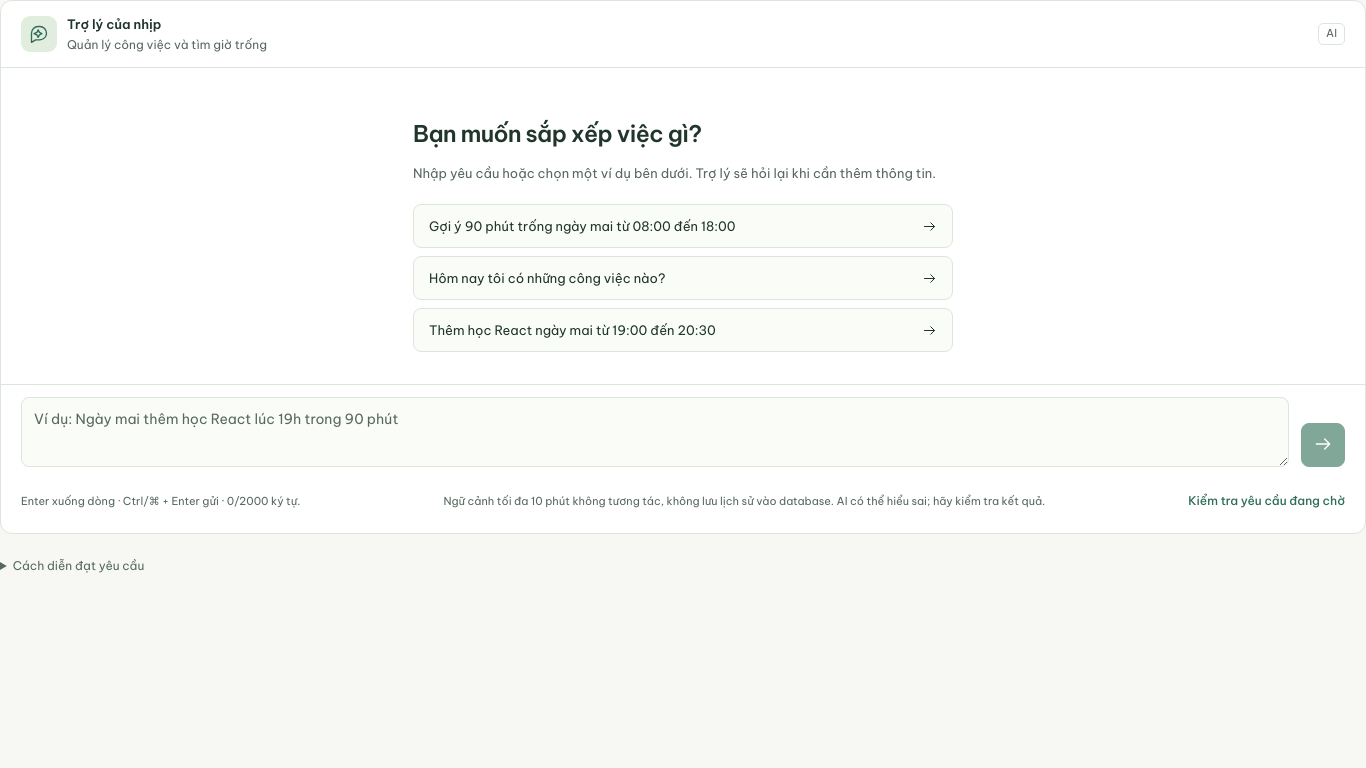
Test: availability renders backend slots without booking controls or task refresh
The width and height of the screenshot is (1366, 768).
Type "Gợi ý 90 phút trống ngày mai từ 08:00 đến 18:00" into the text box named "Nội dung yêu cầu". click: (655, 432)
box: [21,397,1289,467]
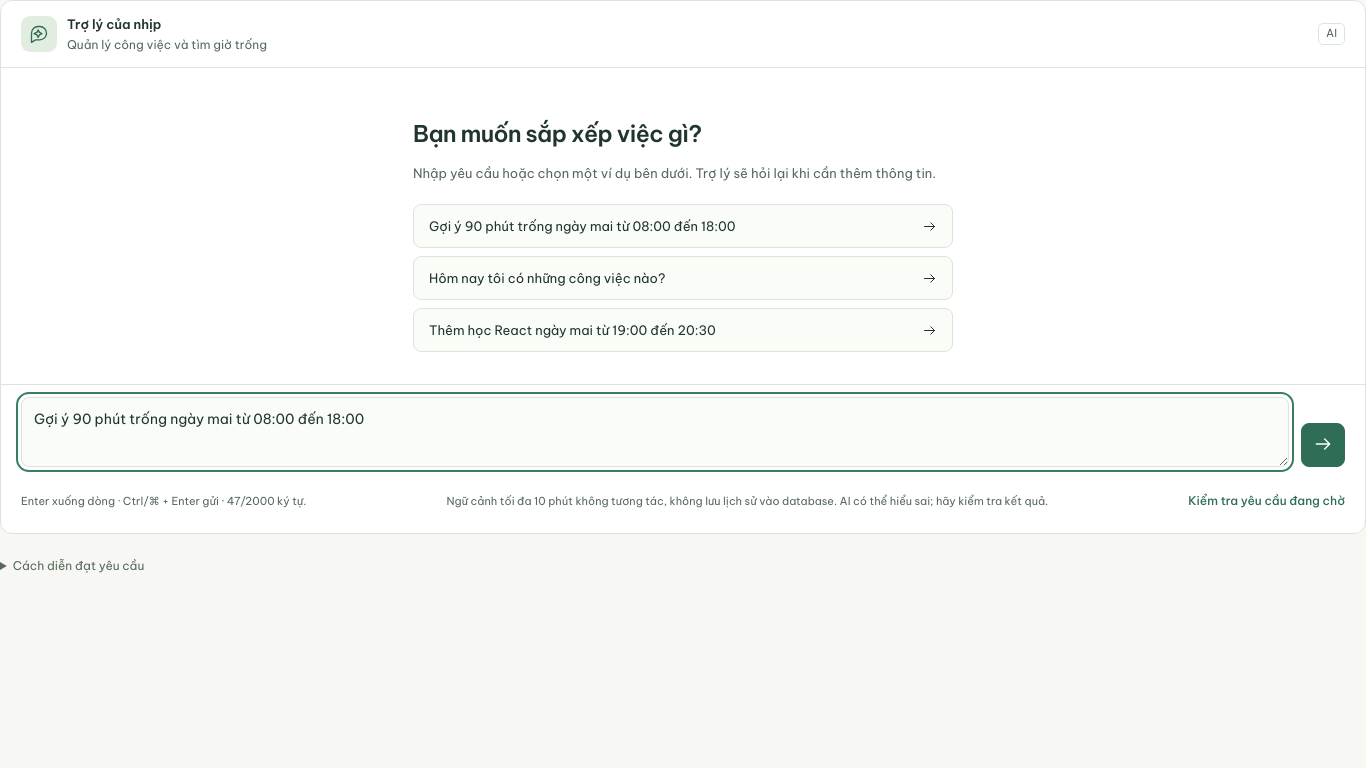
Click the button named "Gửi yêu cầu". click: (1323, 445)
box: [1301,423,1345,467]
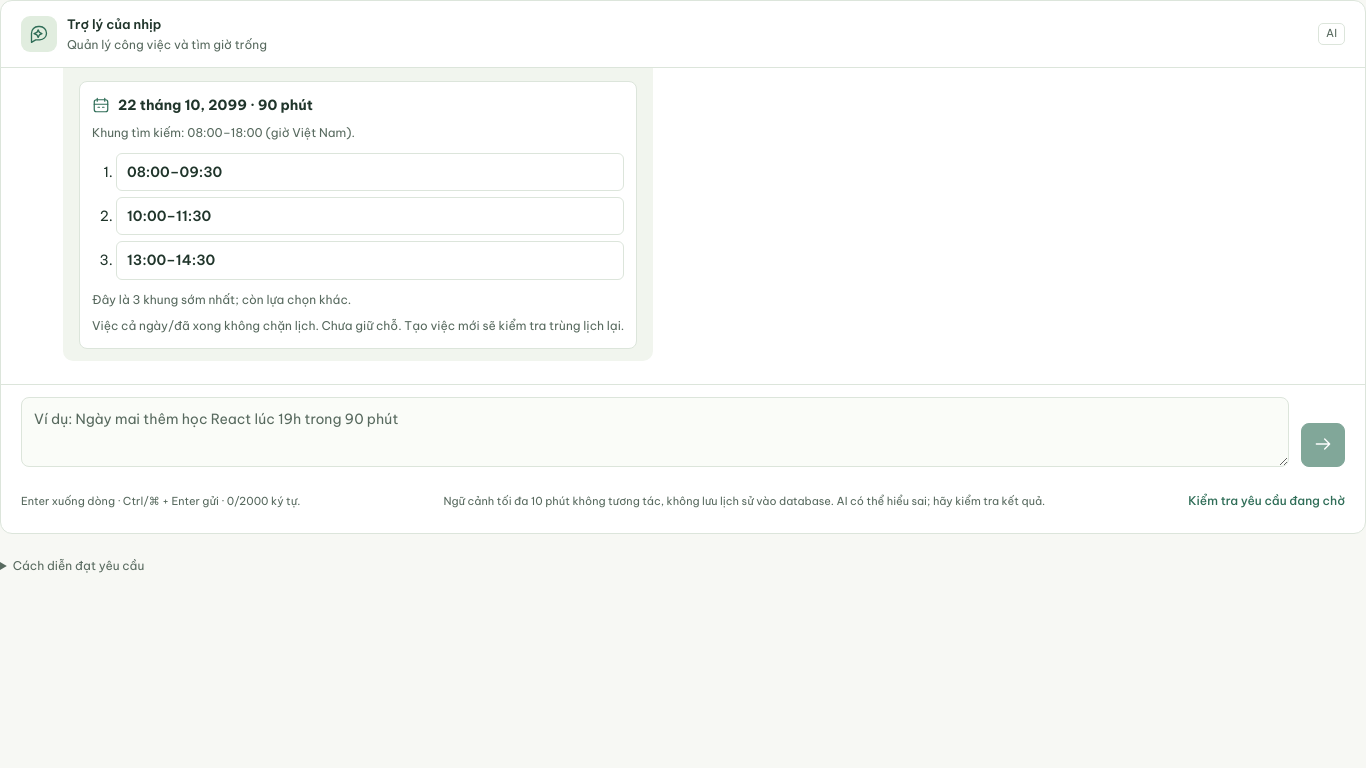
Expected: the number of list items is 3, [116,152,624,191]; [116,197,624,235]; [116,241,624,280]
Expected: the text "08:00–09:30" is shown, [127,162,222,180]
Expected: the element named "Gợi ý giờ trống" shows "giờ Việt Nam", [263,125,355,140]
